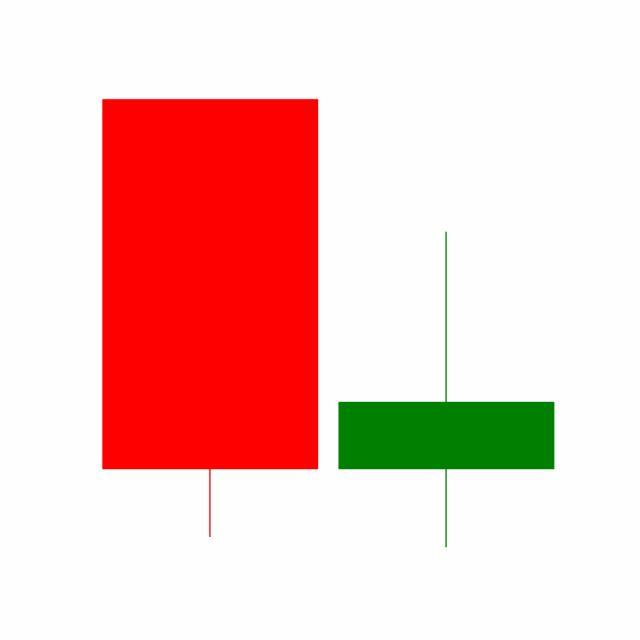Spinning Top: (328, 229, 566, 552)
